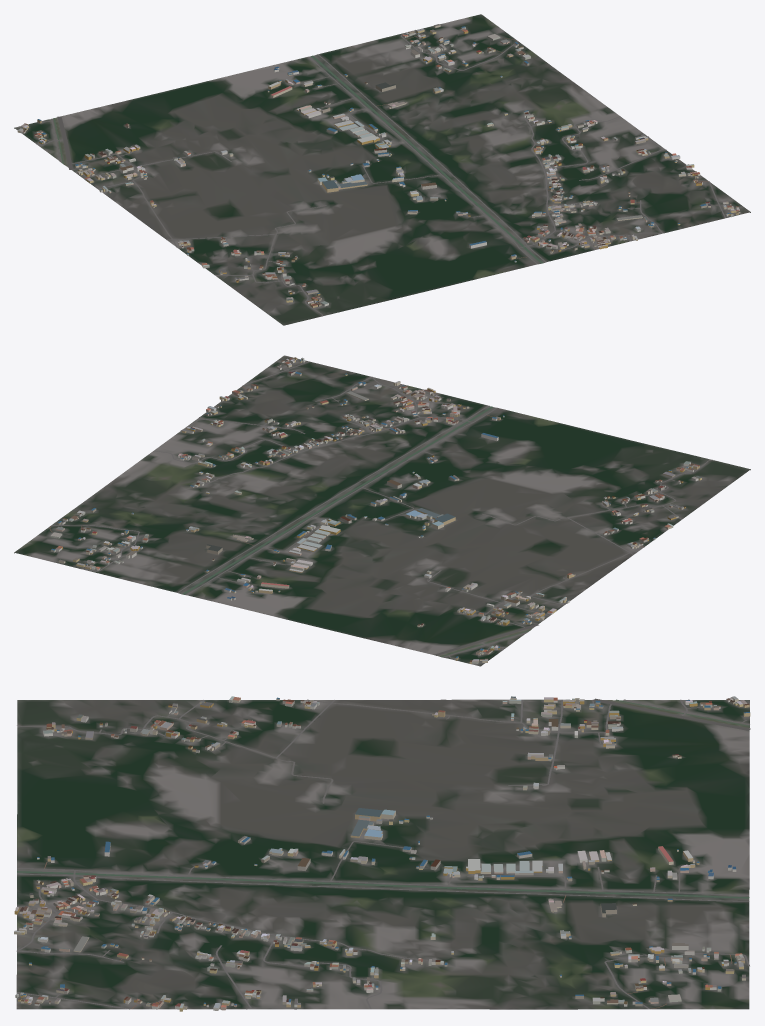
The picture shows the model from 3 angles, top to bottom: view 1: azimuth 30°, elevation 25°; view 2: azimuth 150°, elevation 25°; view 3: azimuth 270°, elevation 25°; orthographic projection. The views are drawn at different scales.
Visible parts, largest first — view 1: ground, buildings, roads, water; view 2: ground, buildings, roads, water; view 3: ground, buildings, roads, water.
Boxes of the visible parts, x1=… form: ground: x1=14, y1=14, x2=750, y2=325; buildings: x1=17, y1=24, x2=740, y2=307; roads: x1=19, y1=30, x2=735, y2=316; water: x1=53, y1=55, x2=542, y2=263; ground: x1=14, y1=355, x2=750, y2=666; buildings: x1=50, y1=357, x2=701, y2=663; roads: x1=49, y1=360, x2=712, y2=665; water: x1=182, y1=406, x2=529, y2=656; ground: x1=16, y1=699, x2=749, y2=1009; buildings: x1=14, y1=696, x2=750, y2=1011; roads: x1=16, y1=698, x2=750, y2=1009; water: x1=17, y1=699, x2=749, y2=898.
Bounding box in the file's own units: 1414 × 15.91 × 1409.
